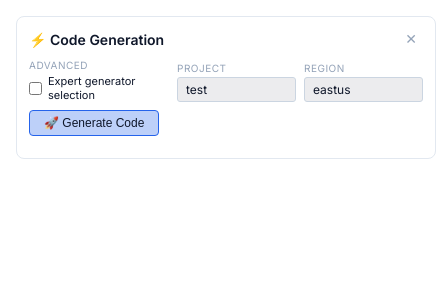
Scenario: CodePreview › renders metadata section with version, provider and time
Click the button "🚀 Generate Code" at (94, 123), box [29,110,159,136]
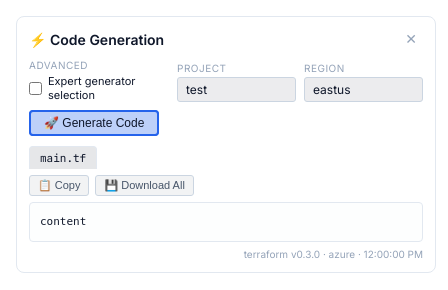
Check: the text "terraform v0.3.0 · azure · 12:00:00 PM" is shown, box [244,248,423,260]
